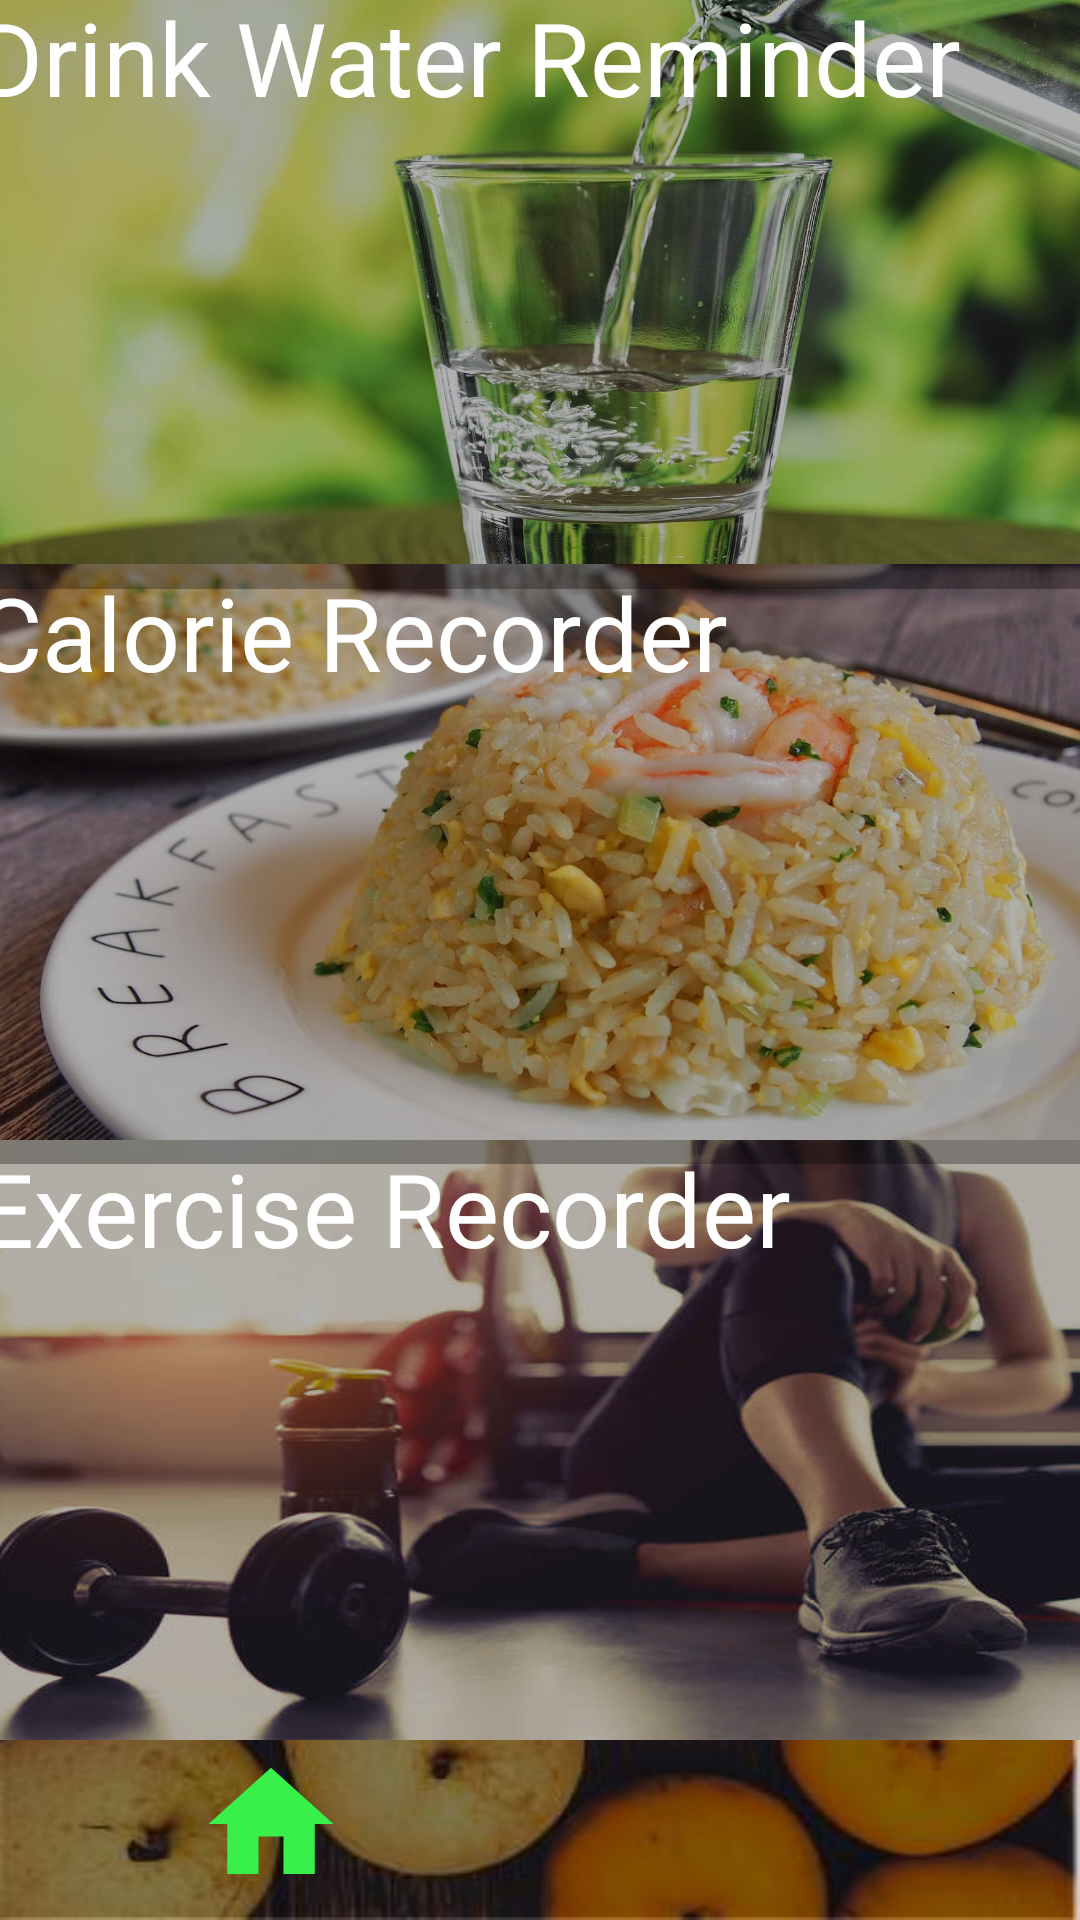

Icon click points for this 1080x1920 phone screenshot, format [x,y]:
Home: [271,1824]
